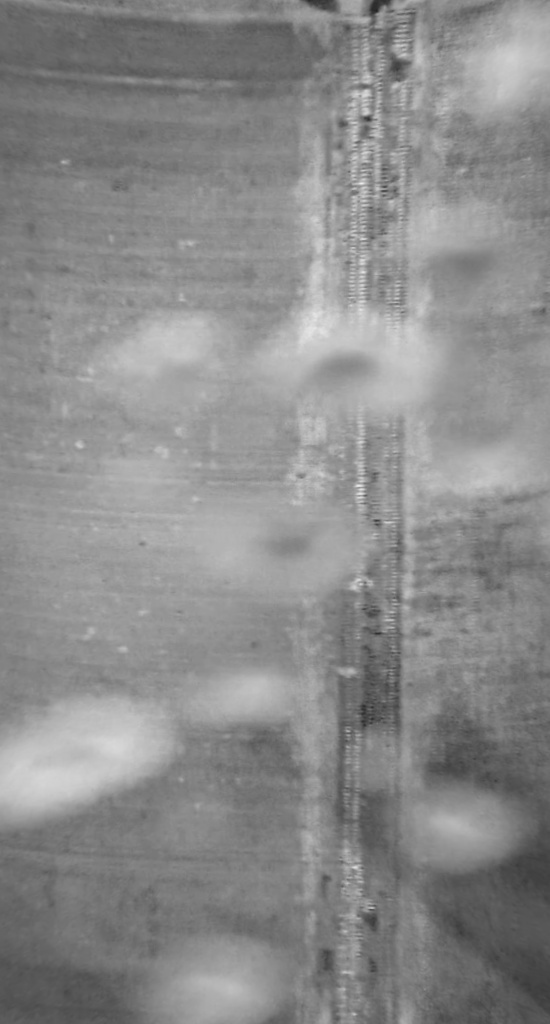splice: (312, 1, 409, 1023)
